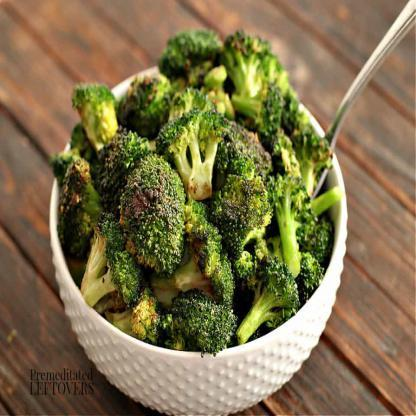broccoli: (50, 26, 340, 360)
